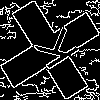K: (25, 25, 81, 78)
